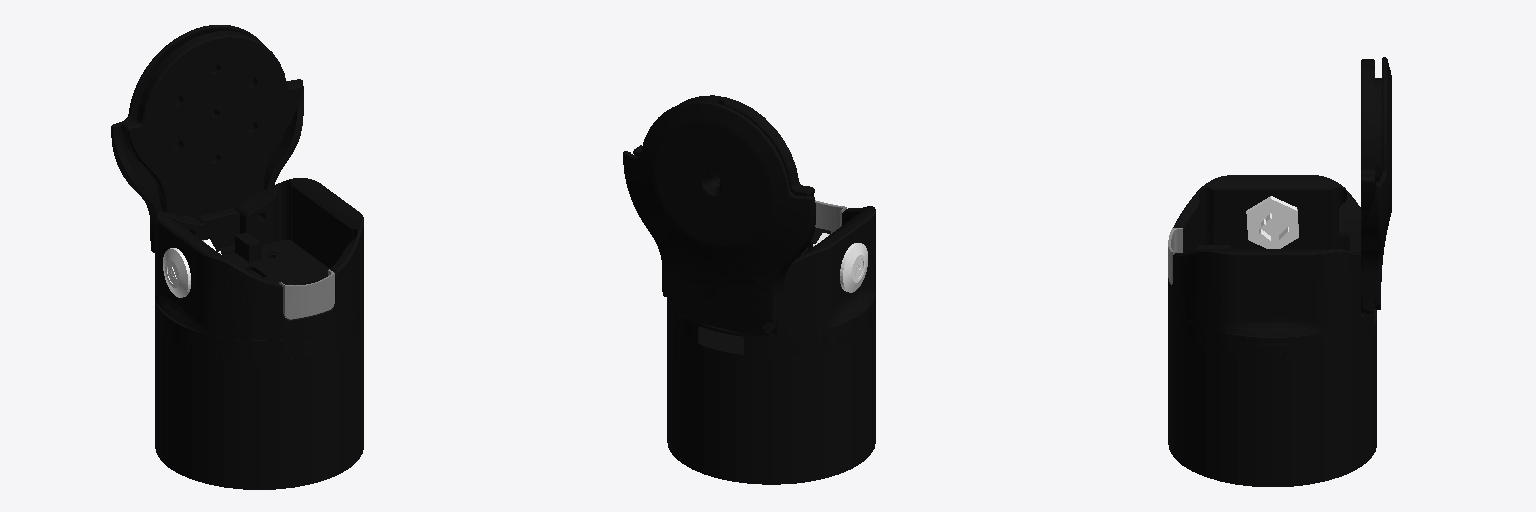
The picture shows the model from 3 angles: view 1: azimuth 30°, elevation 25°; view 2: azimuth 150°, elevation 25°; view 3: azimuth 270°, elevation 25°; orthographic projection.
Parts seen in each view (by area): view 1: link5; view 2: link5; view 3: link5.
Part boxes in pixels (left/top/right/bottom): link5: left=111, top=25, right=363, bottom=489; link5: left=623, top=95, right=875, bottom=484; link5: left=1168, top=57, right=1391, bottom=486.
Bounding box in the file's own units: 0.06 × 0.1145 × 0.0609.